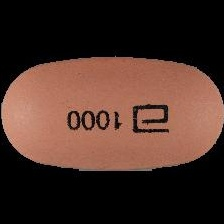0074-3080: (0, 0, 224, 224)
